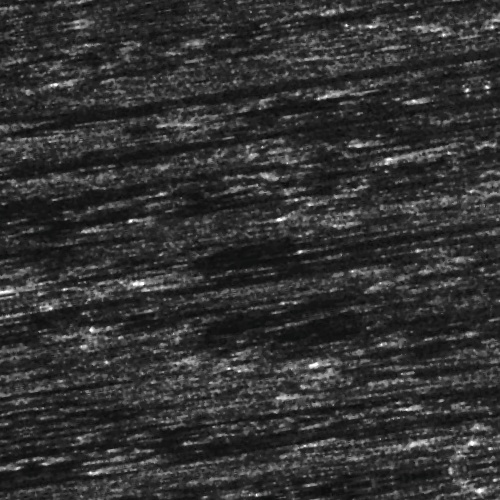object: (279, 457, 500, 476), (281, 358, 386, 379), (98, 253, 233, 266), (0, 243, 129, 256), (0, 269, 65, 286), (179, 106, 262, 117), (38, 438, 131, 447), (417, 471, 500, 478), (92, 197, 175, 204), (43, 50, 116, 57), (43, 428, 116, 435), (473, 127, 500, 144), (0, 128, 29, 143), (390, 123, 473, 128), (119, 269, 192, 274), (341, 105, 414, 110), (356, 393, 409, 398), (254, 218, 295, 223), (421, 176, 442, 181)
shadow: (0, 269, 460, 286), (0, 128, 422, 143), (25, 243, 377, 256), (0, 85, 470, 94), (165, 253, 454, 266), (85, 438, 488, 447), (333, 358, 500, 379), (399, 457, 500, 476), (79, 428, 350, 435), (0, 491, 193, 500), (221, 106, 374, 117), (0, 404, 143, 415), (156, 269, 442, 274), (0, 495, 274, 500), (0, 414, 263, 419), (0, 386, 100, 399), (80, 50, 227, 57), (134, 197, 280, 204), (0, 212, 109, 221), (0, 494, 157, 500), (383, 393, 500, 398), (0, 353, 84, 358), (378, 105, 457, 110), (275, 218, 350, 223), (432, 123, 500, 128), (432, 176, 500, 181), (463, 471, 500, 478)
